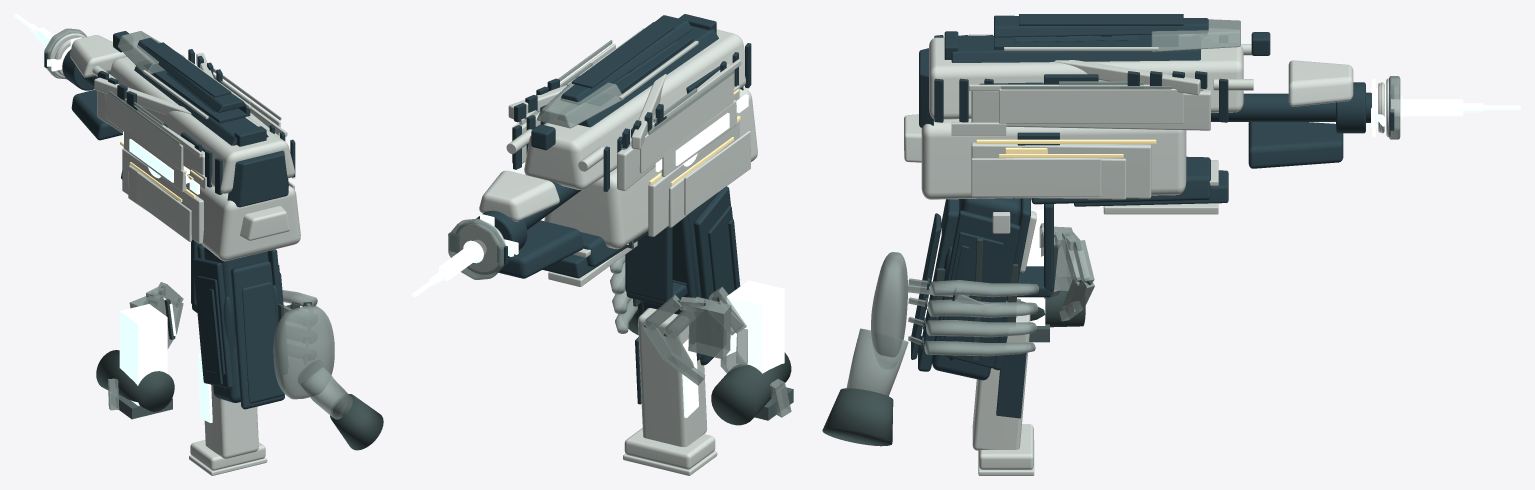
File: hand-sidearm-onehand-v1-hp-baked.glb
The picture shows the model from 3 angles, left to right: view 1: azimuth 30°, elevation 25°; view 2: azimuth 150°, elevation 25°; view 3: azimuth 270°, elevation 25°; orthographic projection. The views are drawn at different scales.
Parts seen in each view (by area): view 1: sidearm_slide, right_sidearm_blueprint_continuous_palm_shell, sidearm_receiver, sidearm_aesthetic_grip_backstrap_ergonomic_curve, fresh_magazine, sidearm_magazine, sidearm_rear_charge_cap, left_reload_helper_wrist_sleeve, sidearm_grip_backstrap, sidearm_aesthetic_slide_satin_side_plate_l, sidearm_aesthetic_receiver_sculpted_side_plane_l, right_sidearm_visible_wrist_sleeve (+28 smaller); view 2: sidearm_slide, sidearm_receiver, sidearm_magazine, fresh_magazine, left_reload_helper_wrist_sleeve, sidearm_aesthetic_slide_satin_side_plate_l, sidearm_trigger_guard_front, sidearm_muzzle_shroud_top, sidearm_muzzle_shroud_lower, sidearm_aesthetic_receiver_sculpted_side_plane_l, left_reload_helper_robot_dorsal_palm_shell, sidearm_premium_compensator_outer_crown (+42 smaller); view 3: sidearm_slide, sidearm_receiver, sidearm_aesthetic_slide_satin_side_plate_r, sidearm_aesthetic_receiver_sculpted_side_plane_r, sidearm_muzzle_shroud_lower, right_sidearm_blueprint_continuous_palm_shell, sidearm_slide_top_spine, right_sidearm_visible_wrist_sleeve, sidearm_magazine, sidearm_slide_right_layer, sidearm_receiver_right_skin, right_sidearm_wrist_skin_bridge (+34 smaller).
Part boxes in pixels (box(x1,y1,x2,y2)): sidearm_slide: box(97, 57, 295, 194); right_sidearm_blueprint_continuous_palm_shell: box(273, 306, 334, 399); sidearm_receiver: box(186, 179, 300, 261); sidearm_aesthetic_grip_backstrap_ergonomic_curve: box(242, 282, 284, 403); fresh_magazine: box(119, 304, 167, 405); sidearm_magazine: box(204, 385, 258, 458); sidearm_rear_charge_cap: box(227, 150, 288, 207); left_reload_helper_wrist_sleeve: box(96, 350, 174, 411); sidearm_grip_backstrap: box(231, 261, 284, 409); sidearm_aesthetic_slide_satin_side_plate_l: box(105, 93, 183, 170); sidearm_aesthetic_receiver_sculpted_side_plane_l: box(136, 172, 191, 241); right_sidearm_visible_wrist_sleeve: box(330, 394, 383, 450); sidearm_slide: box(513, 29, 751, 191); sidearm_receiver: box(544, 87, 757, 249); sidearm_magazine: box(638, 308, 707, 447); fresh_magazine: box(726, 280, 784, 373); left_reload_helper_wrist_sleeve: box(711, 352, 791, 425); sidearm_aesthetic_slide_satin_side_plate_l: box(639, 74, 733, 173); sidearm_trigger_guard_front: box(625, 226, 672, 301); sidearm_muzzle_shroud_top: box(479, 170, 559, 221); sidearm_muzzle_shroud_lower: box(498, 220, 583, 278); sidearm_aesthetic_receiver_sculpted_side_plane_l: box(684, 130, 750, 215); left_reload_helper_robot_dorsal_palm_shell: box(688, 297, 731, 359); sidearm_premium_compensator_outer_crown: box(448, 218, 505, 279); sidearm_slide: box(929, 35, 1243, 122); sidearm_receiver: box(921, 119, 1186, 199); sidearm_aesthetic_slide_satin_side_plate_r: box(999, 88, 1183, 123); sidearm_aesthetic_receiver_sculpted_side_plane_r: box(971, 158, 1101, 196); sidearm_muzzle_shroud_lower: box(1248, 122, 1343, 168); right_sidearm_blueprint_continuous_palm_shell: box(871, 252, 907, 369); sidearm_slide_top_spine: box(951, 35, 1200, 62); right_sidearm_visible_wrist_sleeve: box(822, 388, 893, 446); sidearm_magazine: box(972, 314, 1030, 450); sidearm_slide_right_layer: box(971, 90, 1210, 130); sidearm_receiver_right_skin: box(971, 142, 1151, 198); right_sidearm_wrist_skin_bridge: box(846, 328, 908, 396).
Size of the model in its own units: 0.8844 by 1.52 by 2.18.
